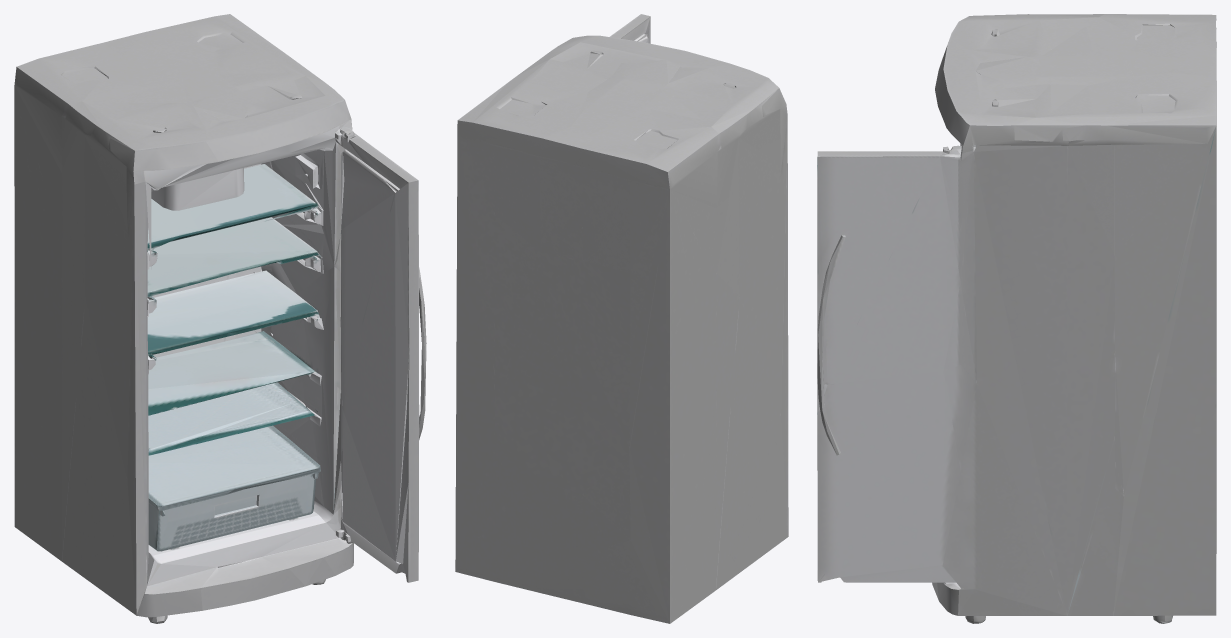
The model's file is kitchen_fridge.glb.
3 views of the same model, side by side, from view 1: azimuth 30°, elevation 25°; view 2: azimuth 150°, elevation 25°; view 3: azimuth 270°, elevation 25° (orthographic). The views are drawn at different scales.
Bounding box in the file's own units: 0.9356 × 1.9 × 1.34.
1 material, 1 textured.
